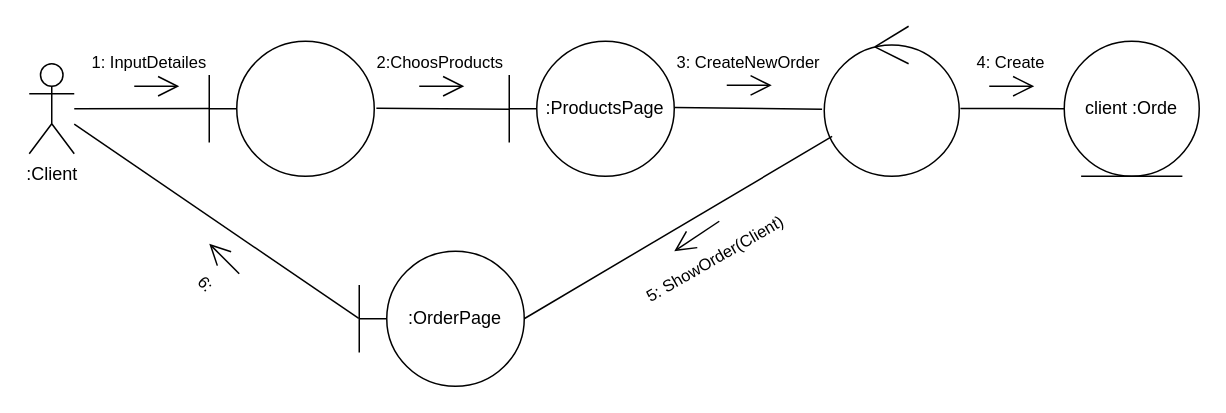
This 1226x413 diagram has some shape labels left out. Each missing label, with the box of its shape:
:DetailesPage: (208, 40, 374, 176)
:OrderController: (823, 25, 959, 176)
